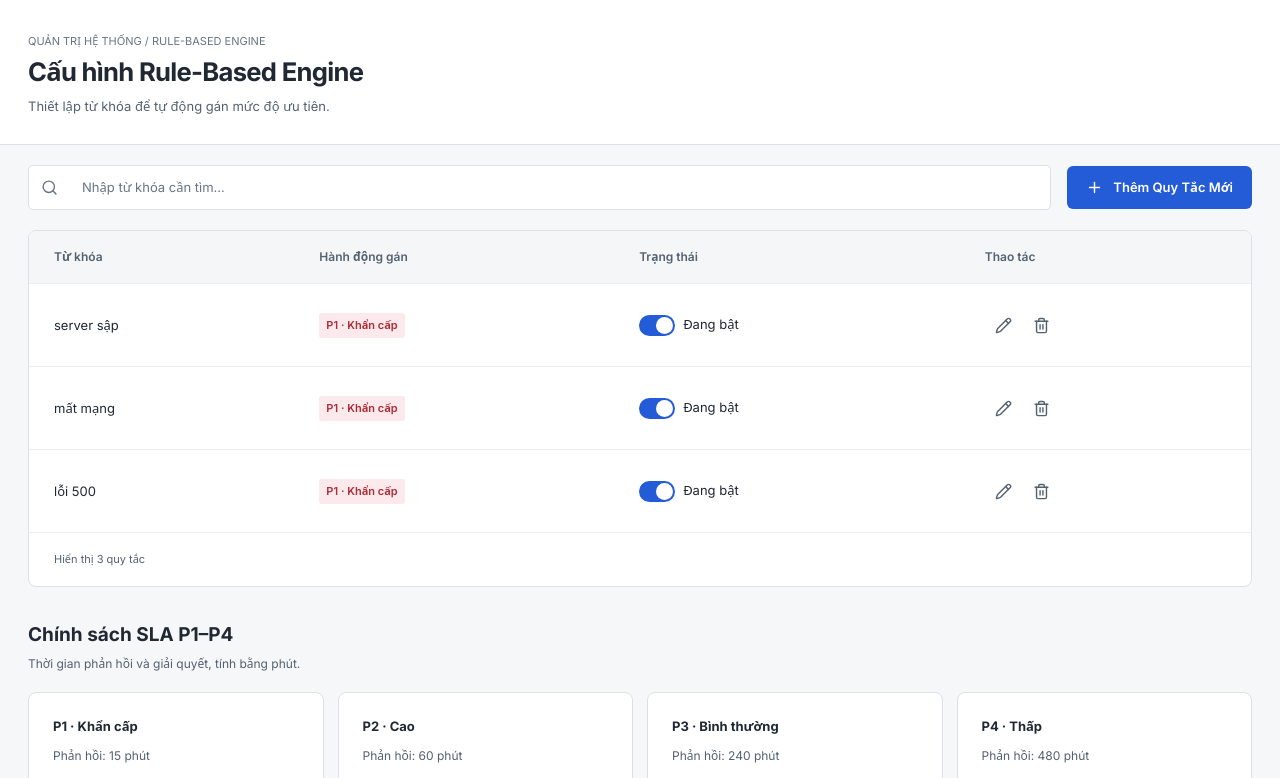
Test case: RulesPage preview interactions › adds and deletes a P4 rule through the wireframe dialog
The width and height of the screenshot is (1280, 778).
Later steps or results of the test are not shown.
Click the button "Thêm Quy Tắc Mới" at (1160, 188), box x1=1067 y1=166 x2=1252 y2=209
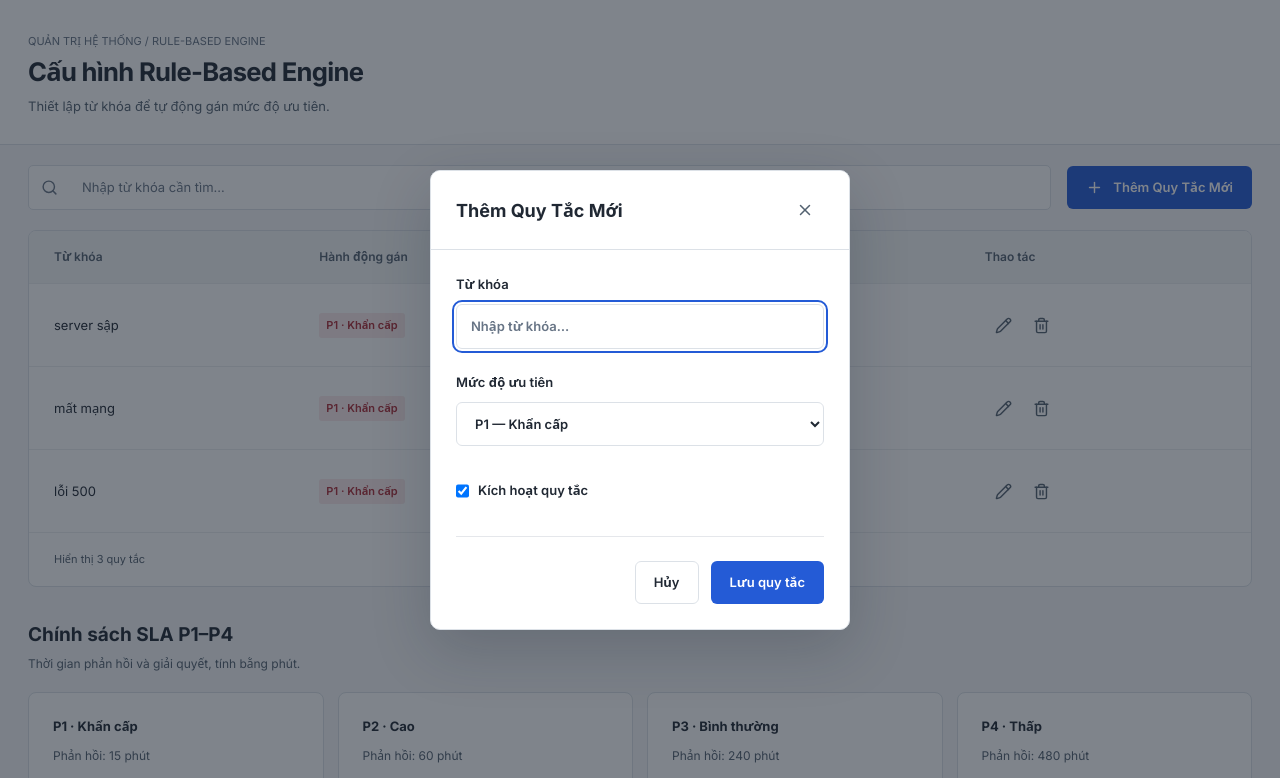
Type "máy in hỏng" into the field labelled "Từ khóa" at (640, 326), box x1=456 y1=304 x2=824 y2=349
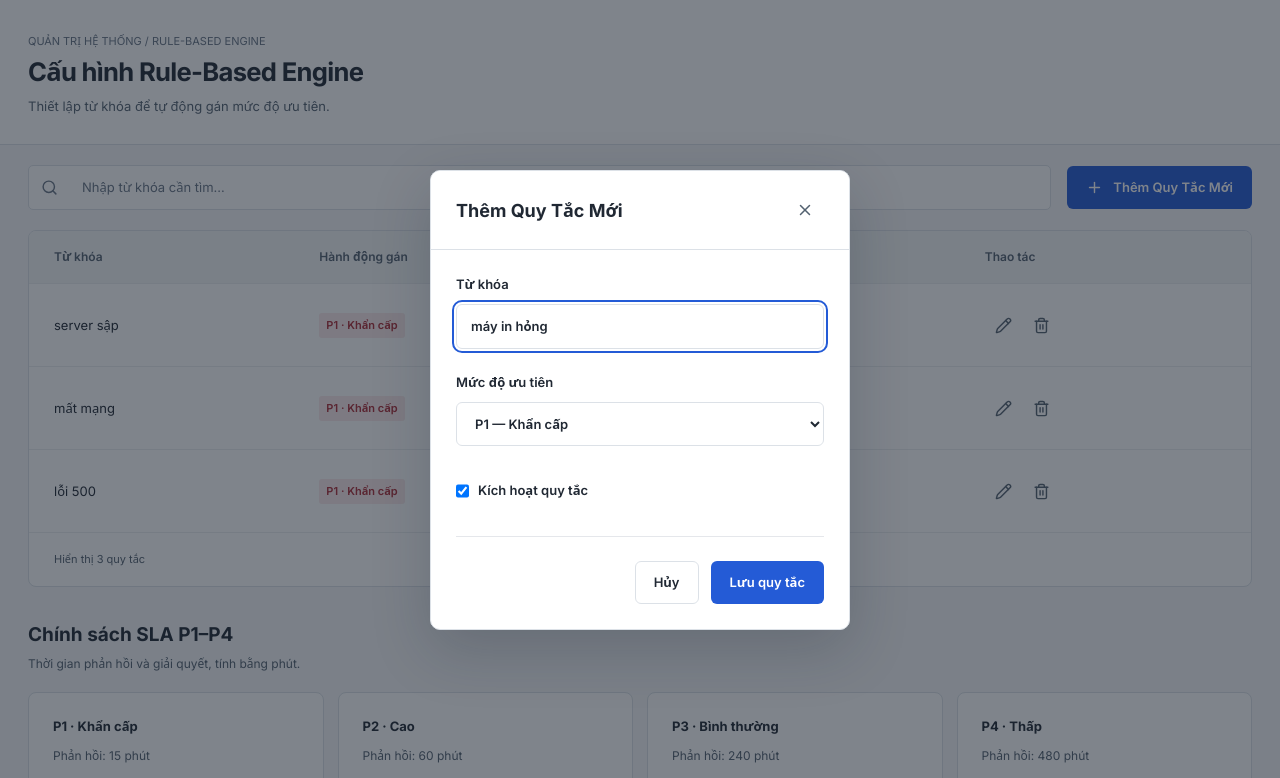
Select "P4 — Thấp" in the dropdown labelled "Mức độ ưu tiên" at (640, 424), box x1=456 y1=402 x2=824 y2=446
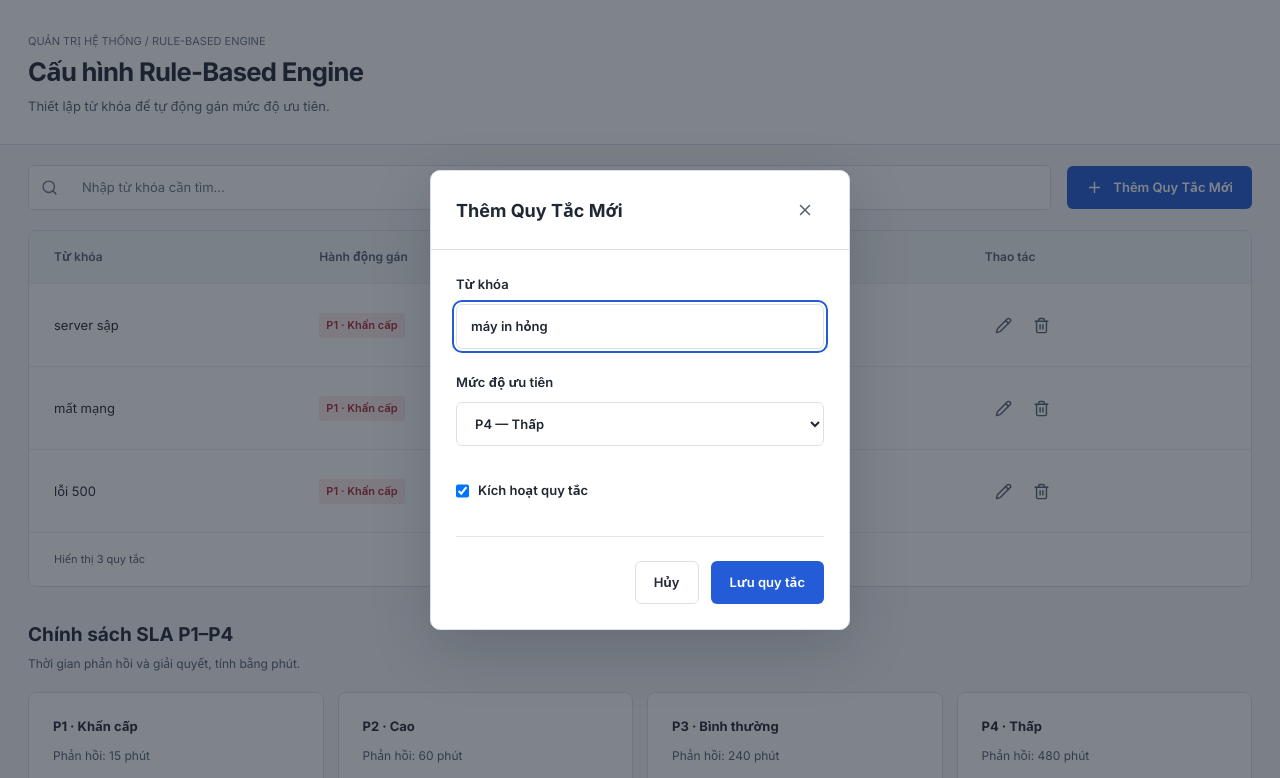
Click the button "Lưu quy tắc" at (767, 582), box x1=710 y1=560 x2=824 y2=604
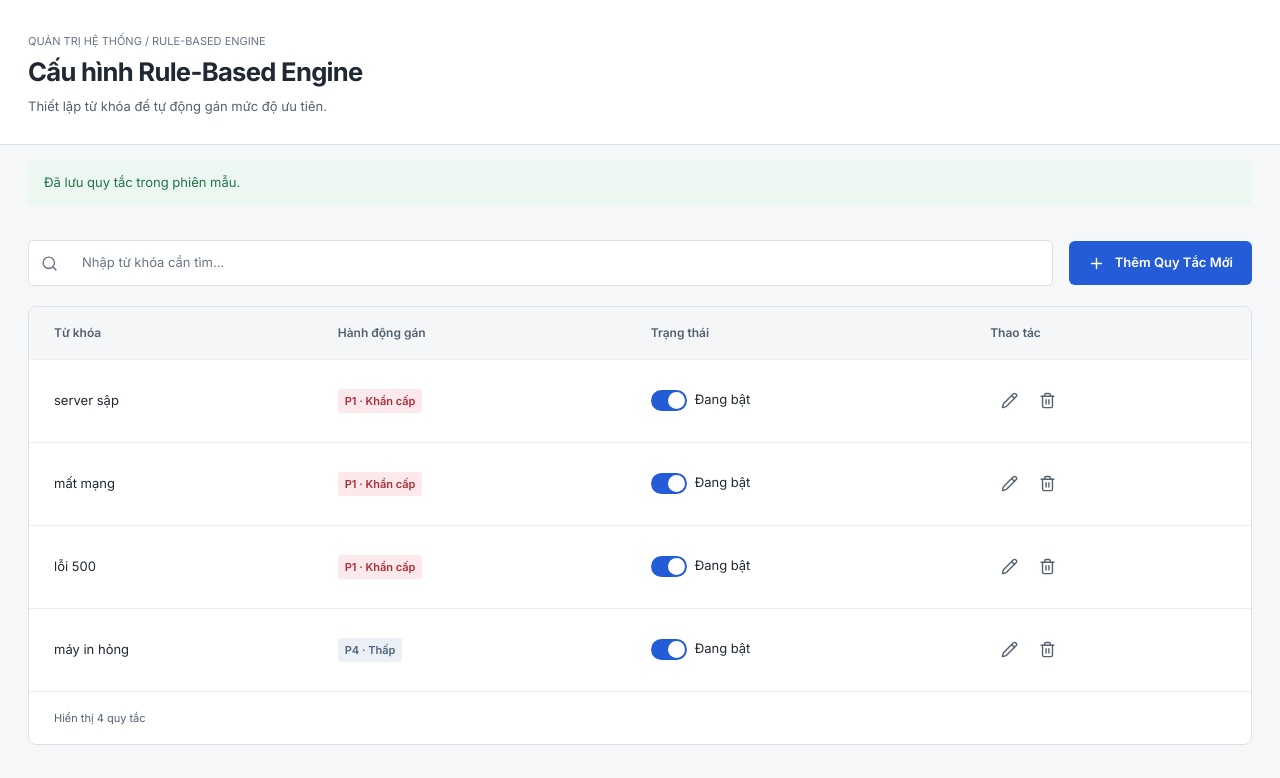
Expected: the text "máy in hỏng" is shown, x1=29 y1=608 x2=313 y2=691
Expected: the text "P4 · Thấp" is shown, x1=338 y1=638 x2=402 y2=662
Click the button named "Xóa máy in hỏng" at (1047, 650), box x1=1028 y1=631 x2=1066 y2=669
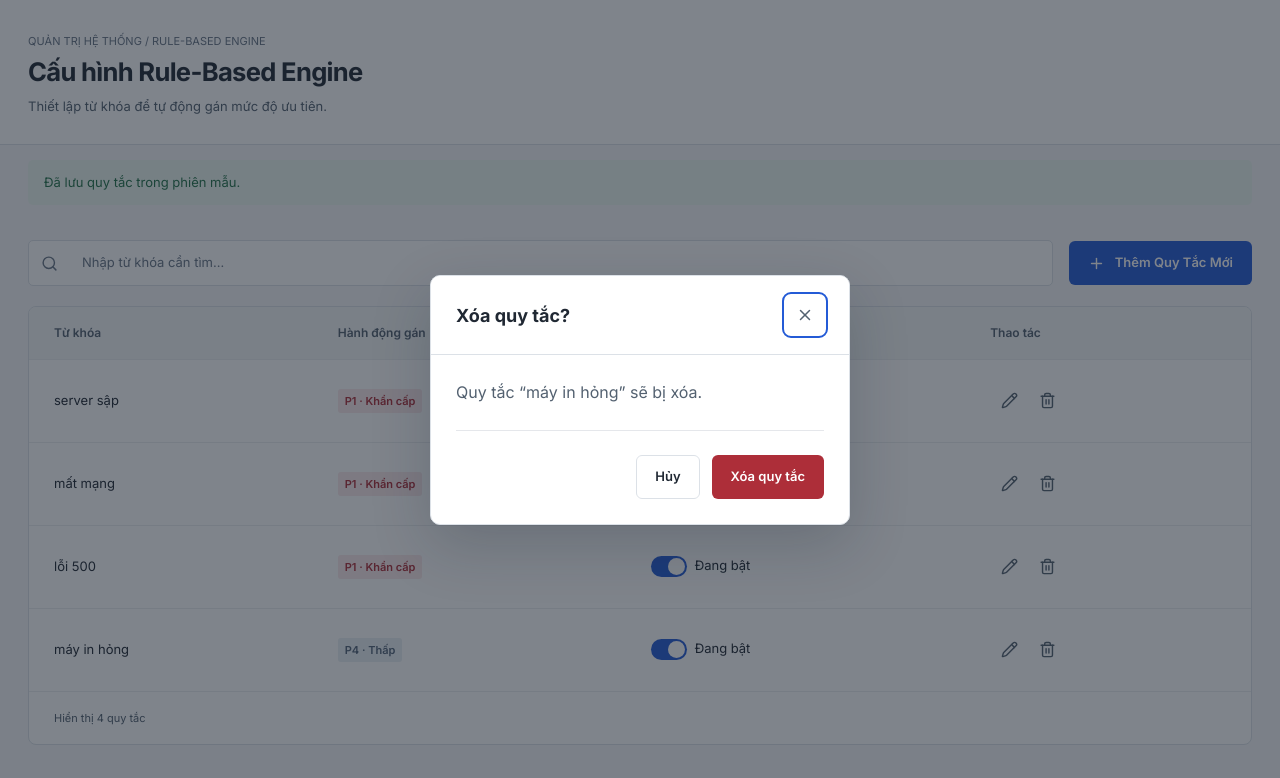
Expected: the text "Quy tắc “máy in hỏng” sẽ bị xóa." is shown, x1=456 y1=382 x2=702 y2=402
